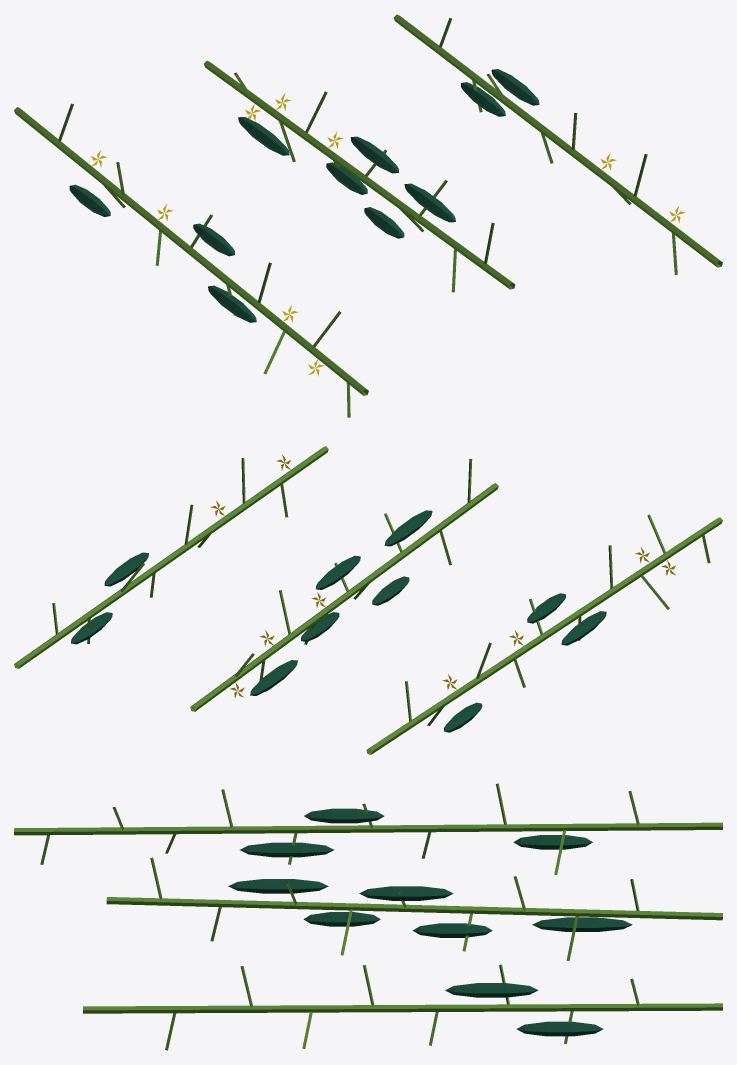
Rendered from r6c3_stems.obj.
The picture shows the model from 3 angles, top to bottom: view 1: azimuth 30°, elevation 25°; view 2: azimuth 150°, elevation 25°; view 3: azimuth 270°, elevation 25°; orthographic projection. The views are drawn at different scales.
Visible parts, largest first — view 1: r6c3_stems; view 2: r6c3_stems; view 3: r6c3_stems.
Boxes of the visible parts, x1,y1,x2,y2 form: r6c3_stems: (14, 14, 722, 417); r6c3_stems: (14, 446, 722, 754); r6c3_stems: (14, 783, 722, 1050).
Size of the model in its own units: 1.41 by 0.3223 by 2.03.
